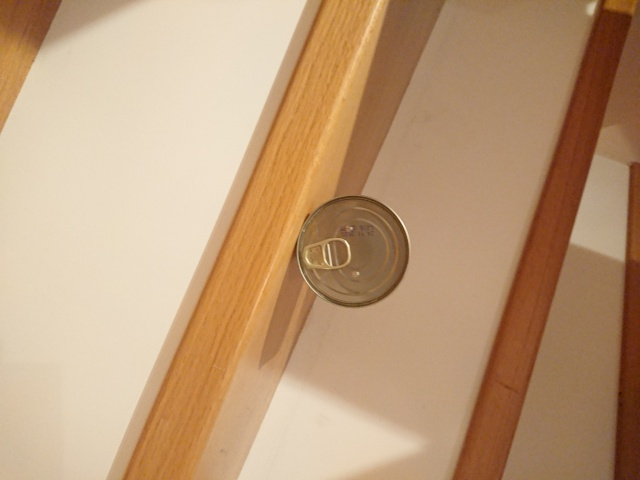Podravka Luncheon Meat 150g: (294, 191, 413, 309)
